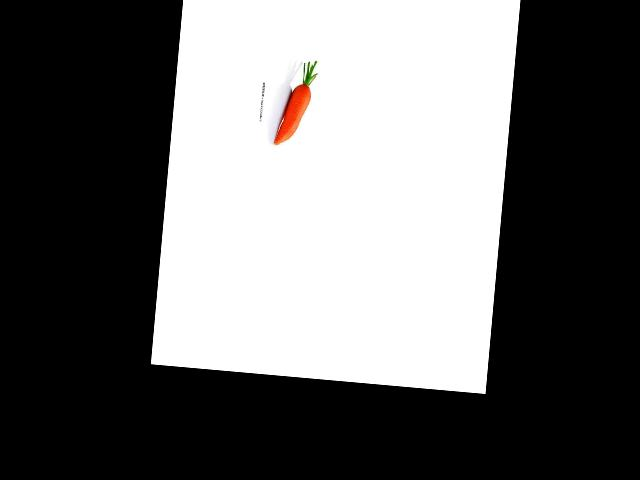carrot: (272, 73, 314, 152)
